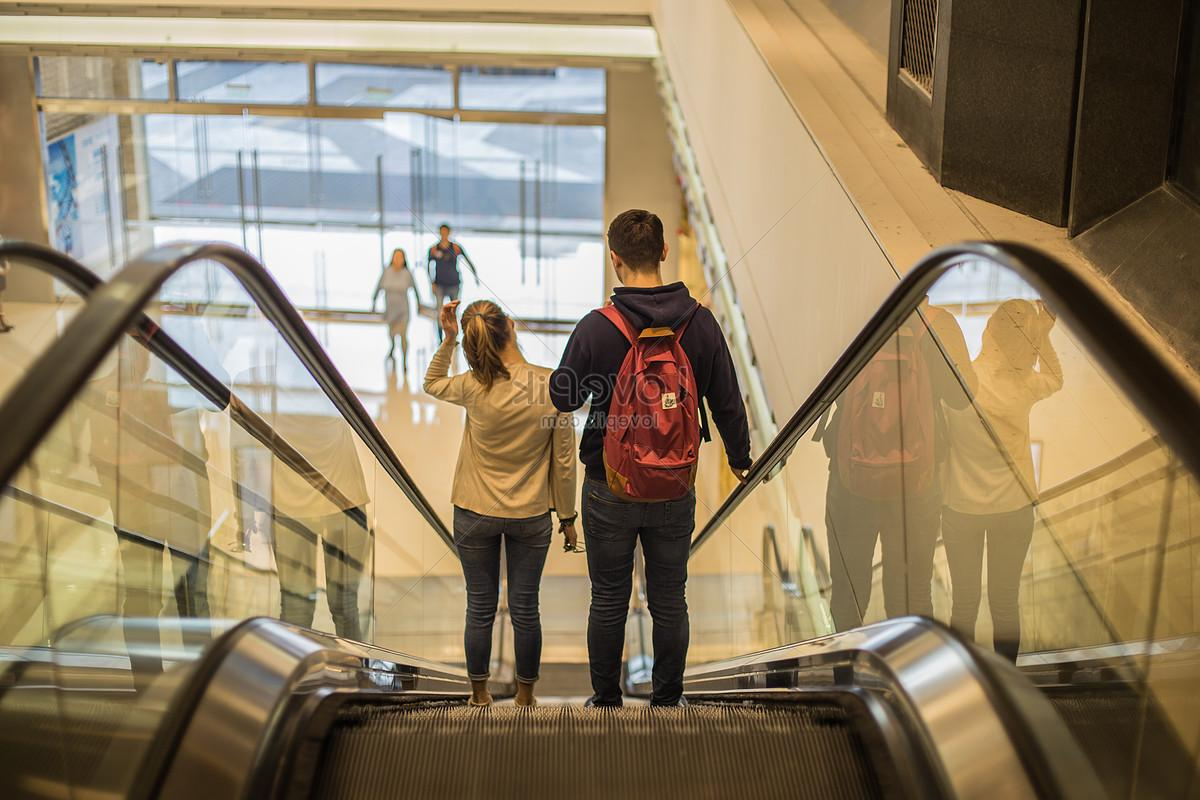long sleeve shirt: (422, 337, 578, 520)
sweater: (548, 282, 754, 479)
trousers: (580, 475, 697, 707), (450, 504, 556, 682)
